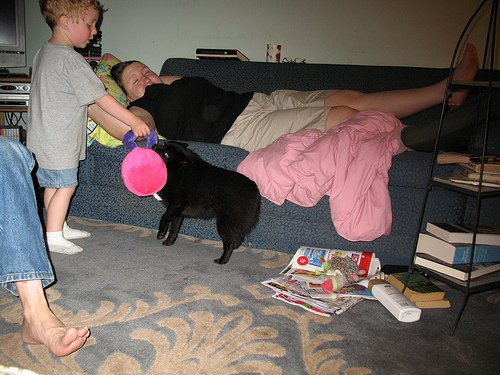couch: (115, 59, 478, 280)
person: (28, 4, 154, 251), (1, 139, 94, 359)
tv: (1, 2, 26, 74)
